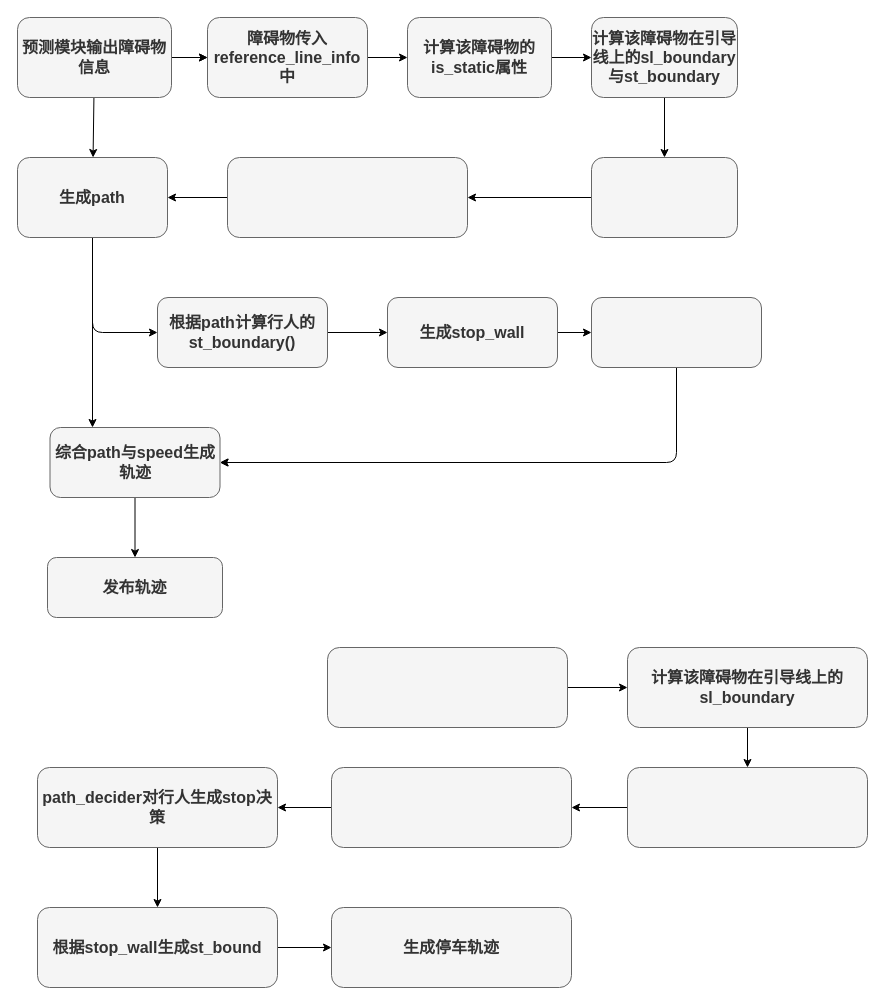
Some shapes in this 885 by 1005 pixel diagram are drawn without their labels. The box of each missing label's shape, as (x1, y1, x2, y2) in pixels:
根据follow_wall生成减速轨迹: (590, 296, 762, 368)
根据reference_line_info规划轨迹: (590, 156, 738, 238)
行人在路中停下时，为静态障碍物: (326, 646, 568, 728)
行人并不生成借道轨迹: (626, 766, 868, 848)
行人是动态障碍物因此path不会考虑: (226, 156, 468, 238)
行人阻挡lane因此形成终点在行人前方的path: (330, 766, 572, 848)
